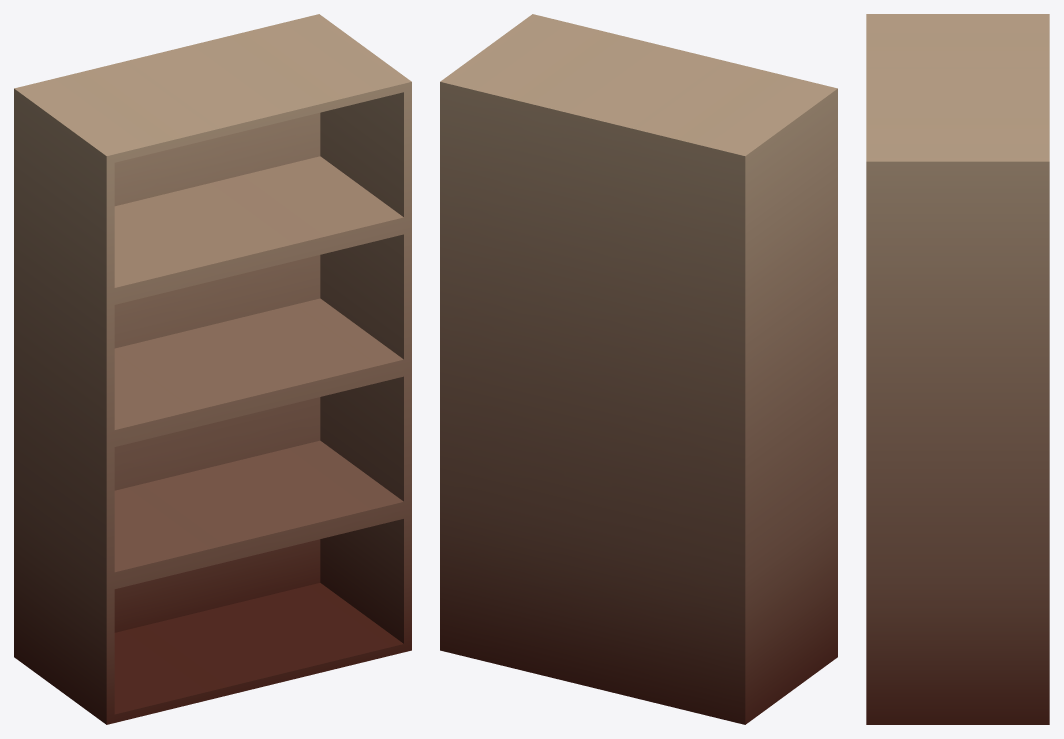
The model's file is Bookshelf.fbx.
3 views of the same model, side by side, from view 1: azimuth 30°, elevation 25°; view 2: azimuth 150°, elevation 25°; view 3: azimuth 270°, elevation 25° (orthographic).
Visible parts, largest first — view 1: Bookshelf; view 2: Bookshelf; view 3: Bookshelf.
Boxes of the visible parts, <box> form: Bookshelf: <box>14,14,411,724</box>; Bookshelf: <box>440,14,837,724</box>; Bookshelf: <box>866,14,1049,724</box>.
Size of the model in its own units: 1.2 by 2.14 by 0.6323.
